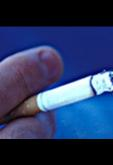Cigarette: (0, 69, 113, 127)
